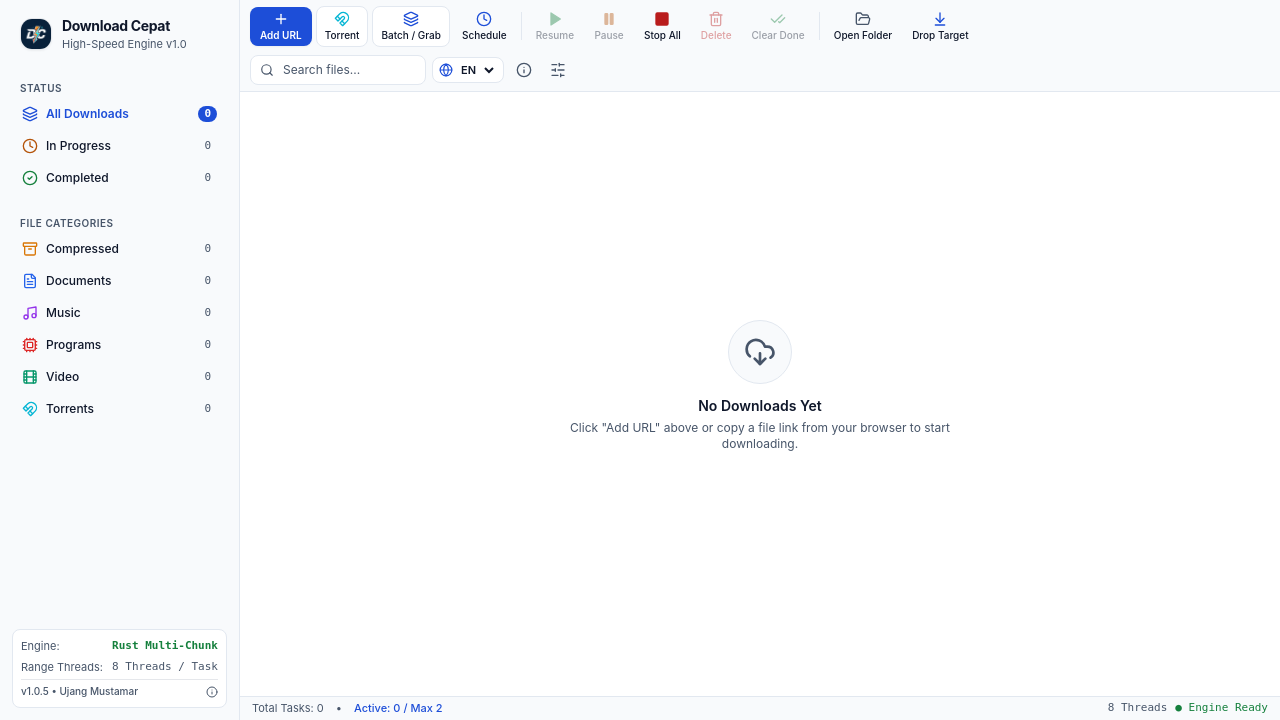
Test: Download Cepat UI Suite › F01-E1: Empty URL disables download button
Click the button "Add URL": (281, 26) left=250, top=7, right=312, bottom=46
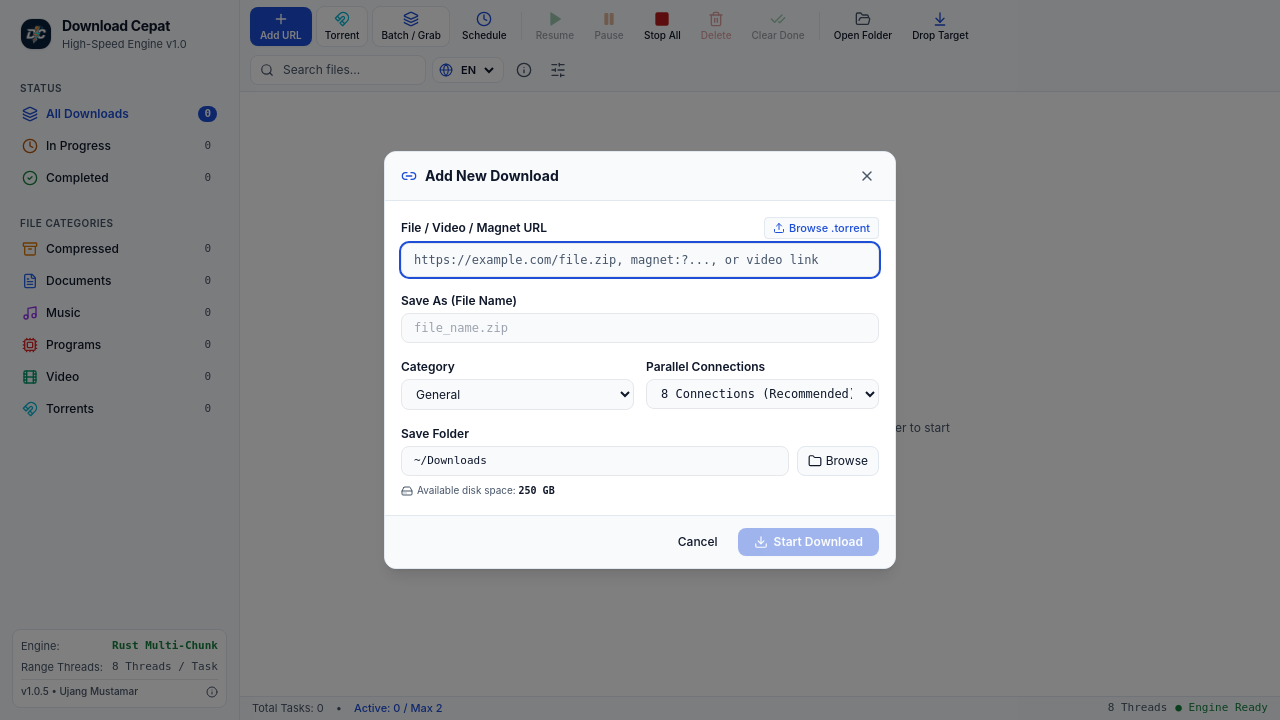
Now the button "Start Download" is disabled, box left=738, top=528, right=879, bottom=556
